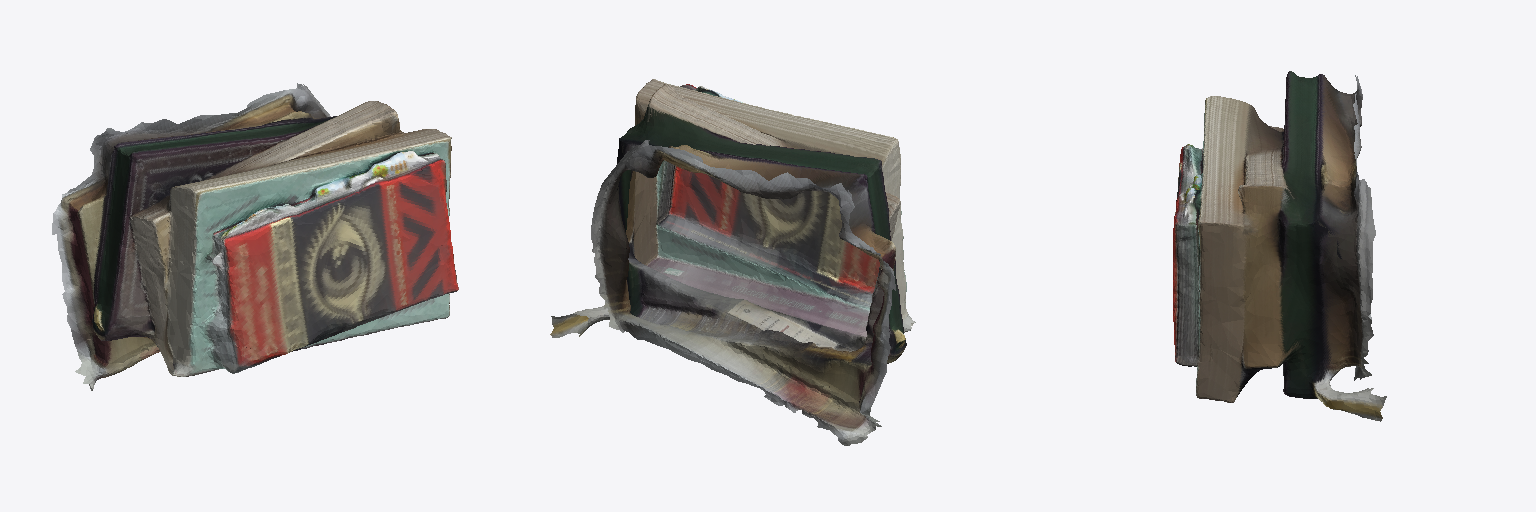
3 views of the same model, side by side, from view 1: azimuth 30°, elevation 25°; view 2: azimuth 150°, elevation 25°; view 3: azimuth 270°, elevation 25° (orthographic).
Size of the model in its own units: 26.36 by 19.62 by 14.77.
Materials: 1 (1 with a texture image).